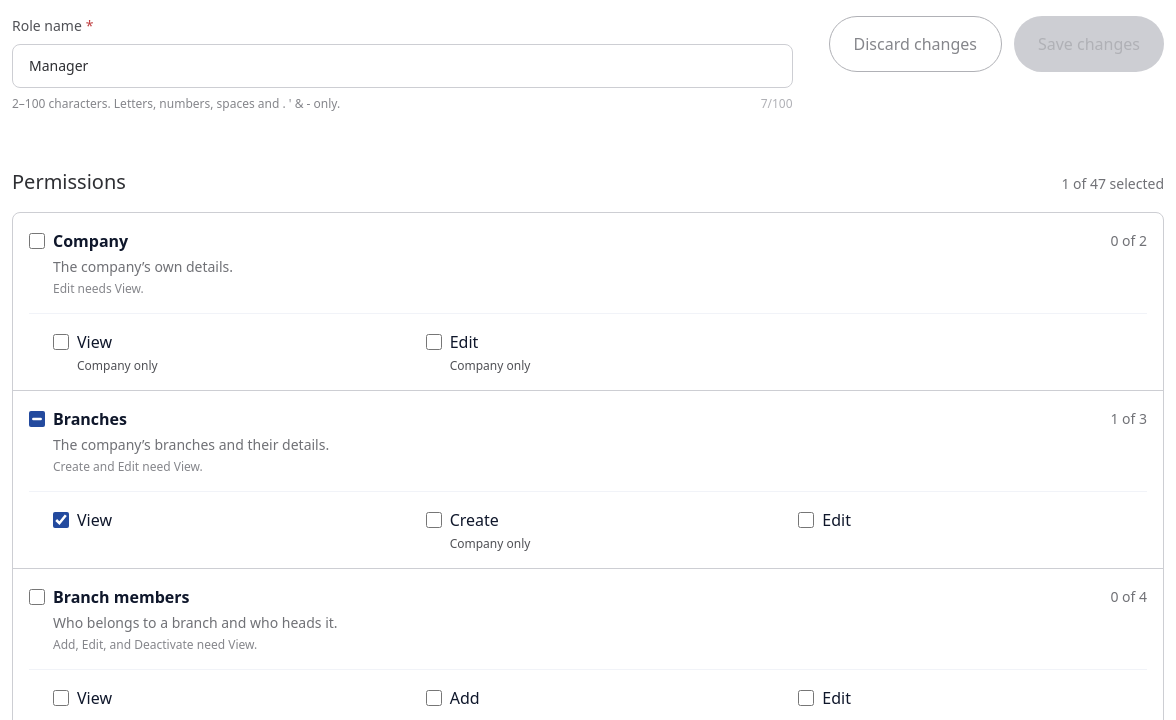
Test case: AccessRoleForm › explains a rejected submit in the app's own words and keeps what was entered
This screenshot has width=1176, height=720.
Type " two" into the field labelled "Role name*" at [402, 66], box [29, 56, 776, 76]
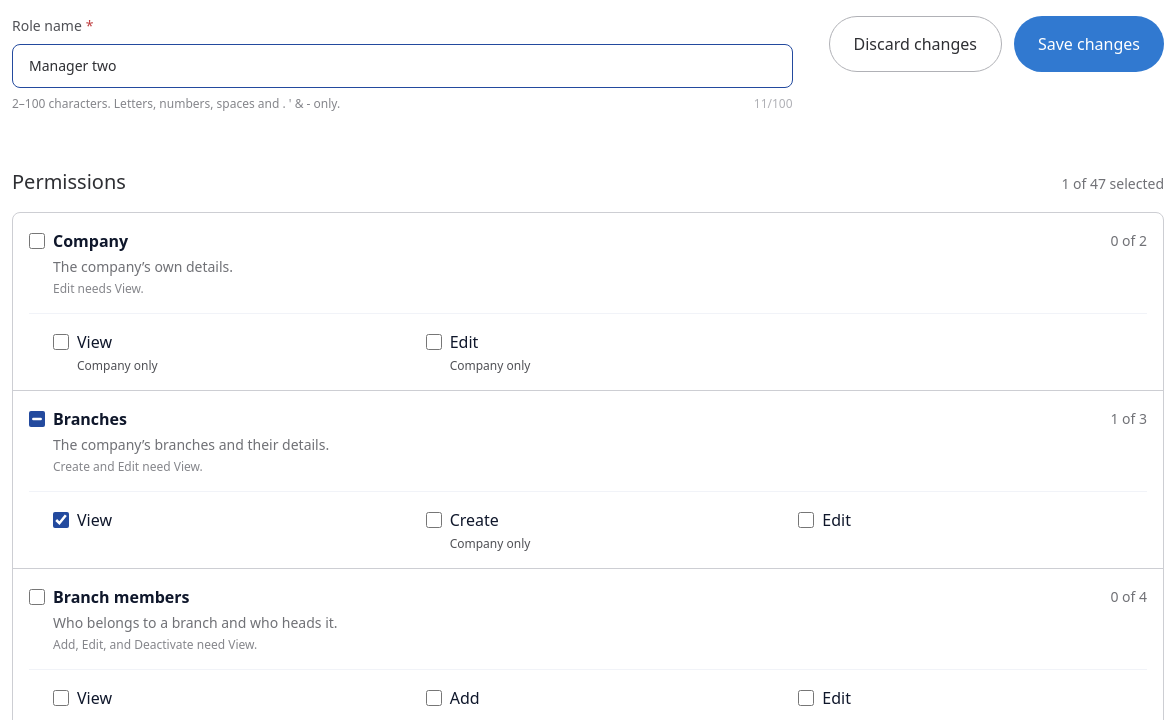
Click the button "Save changes" at [1089, 44], box [1014, 16, 1164, 72]
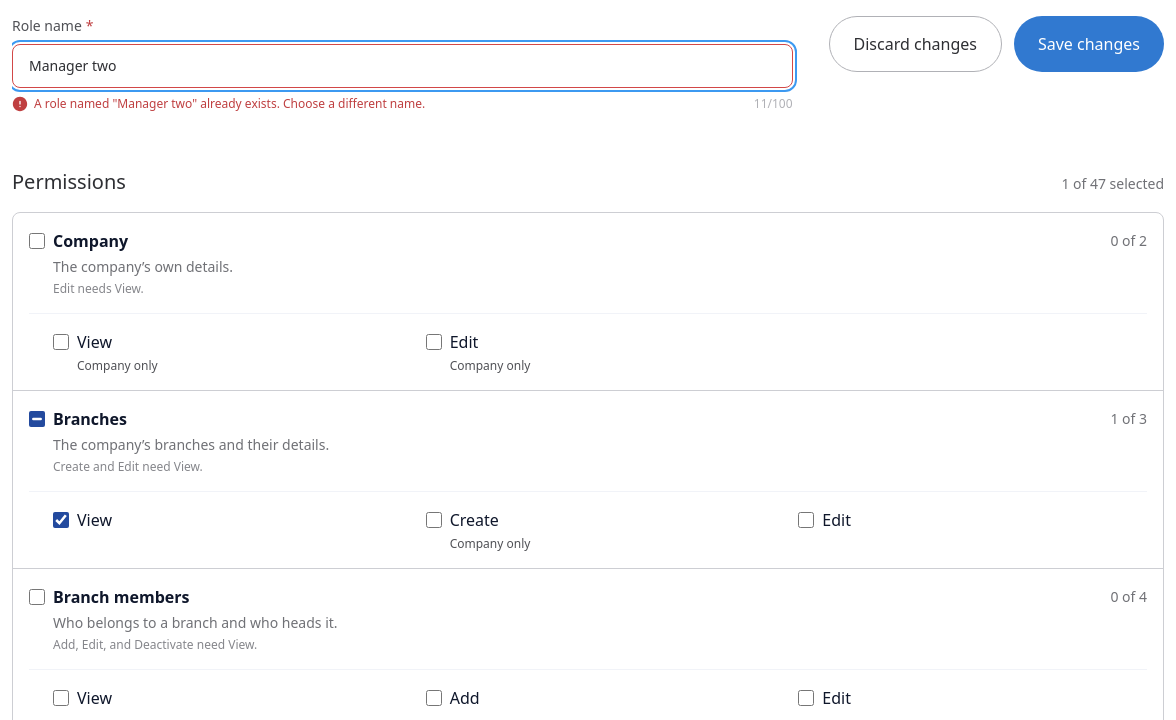
Check: the field labelled "Role name*" holds "Manager two", box [29, 56, 776, 76]
Check: the text "A role named \"Manager two\" already exists. Choose a different name." is shown, box [34, 96, 425, 112]
